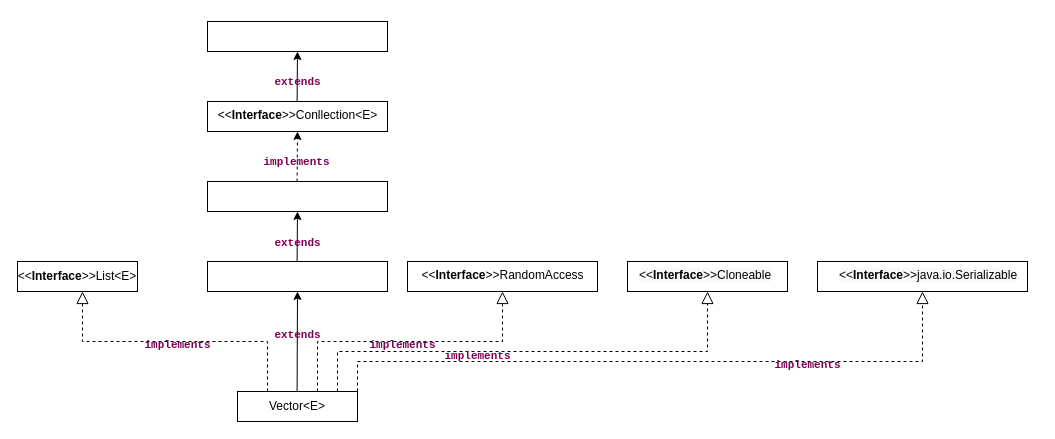
Some shapes in this 1055 by 439 pixel diagram are drawn without their labels. The centre of each missing label's shape, as x and y in pixels:
< Abstract >Abstract List<E>: pixel 297 276
< Abstract >AbstractConllection <E>: pixel 297 196
<< Interface >>Iterable <E>: pixel 297 36
